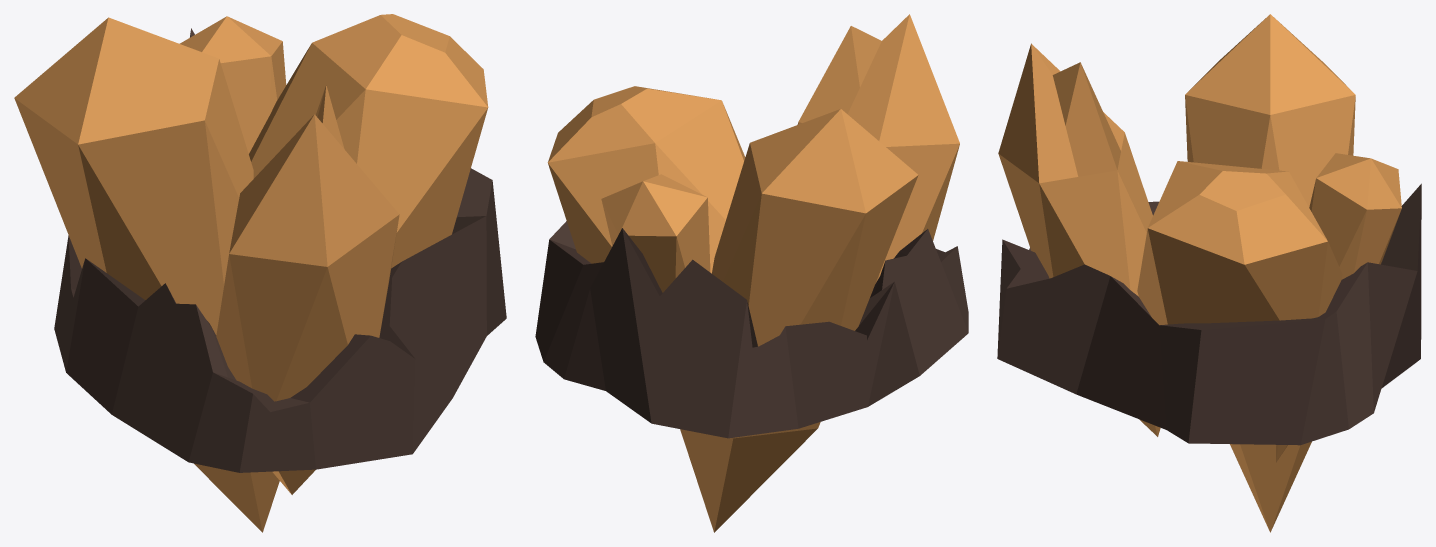
Rendered from IronOre.fbx.
3 views of the same model, side by side, from view 1: azimuth 30°, elevation 25°; view 2: azimuth 150°, elevation 25°; view 3: azimuth 270°, elevation 25° (orthographic). The views are drawn at different scales.
Visible parts, largest first — view 1: base, Icosphere.002, Icosphere.001, Icosphere, Icosphere.003; view 2: base, Icosphere.002, Icosphere, Icosphere.001, Icosphere.003; view 3: base, Icosphere, Icosphere.001, Icosphere.002, Icosphere.003.
Boxes of the visible parts, box(x1,y1,x2,y2) form: base: box(54, 28, 506, 472); Icosphere.002: box(14, 17, 279, 532); Icosphere.001: box(216, 85, 399, 494); Icosphere: box(249, 14, 488, 268); Icosphere.003: box(179, 16, 286, 153); base: box(535, 221, 968, 438); Icosphere.002: box(680, 109, 918, 532); Icosphere: box(547, 86, 745, 273); Icosphere.001: box(797, 14, 959, 283); Icosphere.003: box(601, 174, 710, 292); base: box(997, 183, 1421, 445); Icosphere: box(1137, 161, 1342, 325); Icosphere.001: box(998, 43, 1160, 436); Icosphere.002: box(1185, 14, 1355, 532); Icosphere.003: box(1276, 153, 1401, 462).
Bounding box in the file's own units: 287 × 302 × 359.
